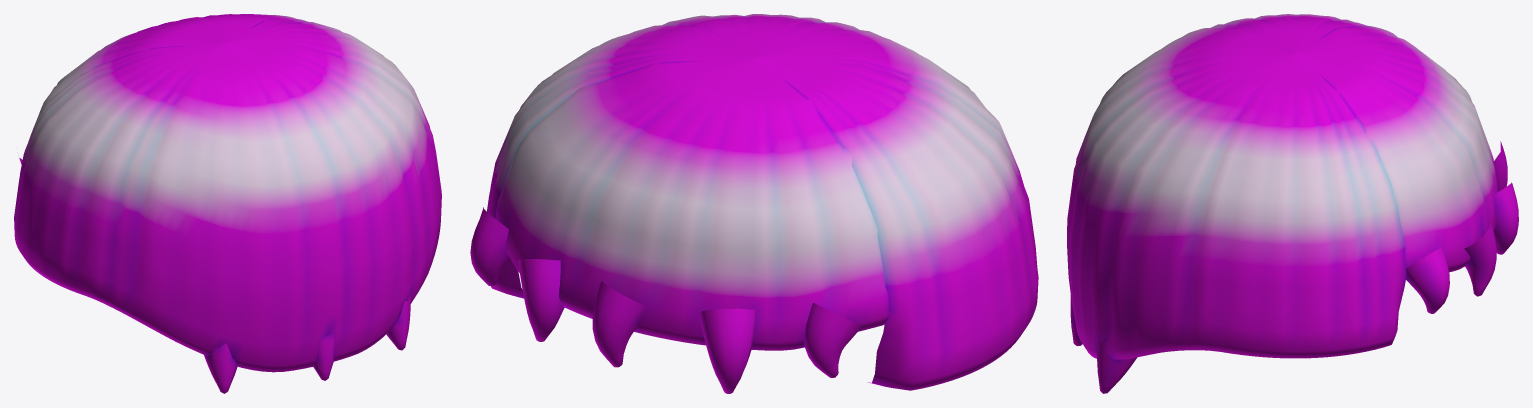
Rendered from short.glb.
3 views of the same model, side by side, from view 1: azimuth 30°, elevation 25°; view 2: azimuth 150°, elevation 25°; view 3: azimuth 270°, elevation 25° (orthographic). The views are drawn at different scales.
Parts seen in each view (by area): view 1: short; view 2: short; view 3: short.
Part boxes in pixels (bbox=[...]): short: bbox=[14, 14, 441, 393]; short: bbox=[470, 14, 1038, 393]; short: bbox=[1067, 14, 1518, 393].
Bounding box in the file's own units: 0.9285 × 0.6146 × 0.8605.
